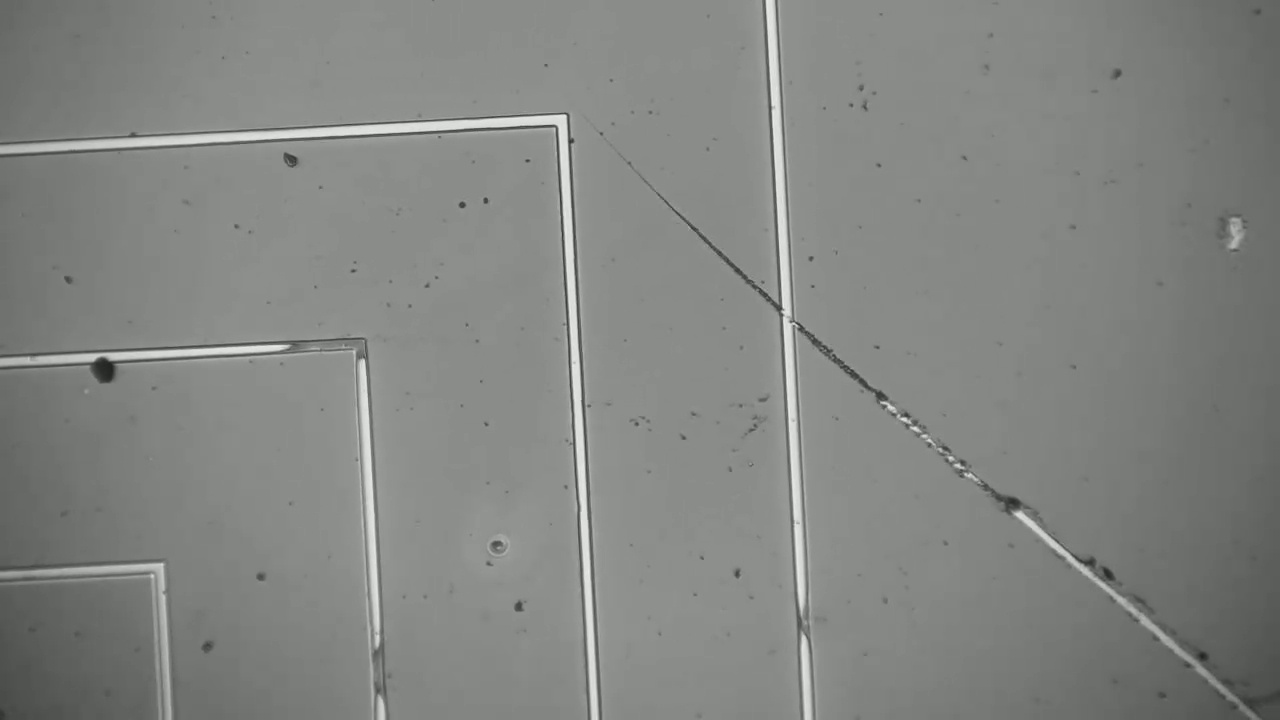gray_line: (270, 322, 384, 367), (352, 625, 399, 717), (337, 316, 377, 378), (785, 596, 823, 656)
scratch: (590, 127, 1264, 719)
stains_enbedded: (75, 334, 123, 401)
